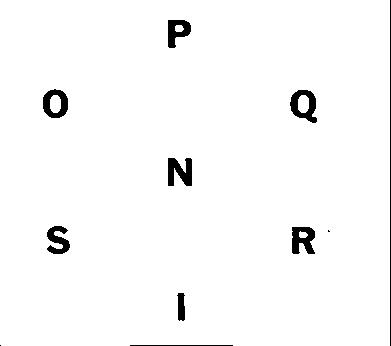I: (171, 289, 193, 328)
